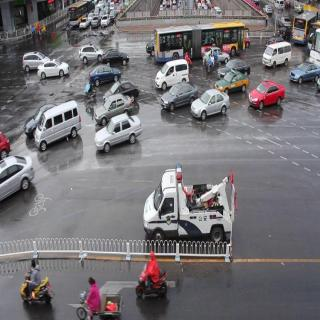BigCar: (154, 20, 250, 62), (291, 10, 313, 49), (64, 0, 91, 30)
Car: (143, 166, 242, 255), (33, 101, 82, 154), (91, 115, 143, 153), (0, 155, 34, 201), (151, 59, 195, 92), (195, 86, 232, 125), (96, 89, 136, 125), (249, 82, 286, 115), (260, 36, 294, 70), (213, 70, 251, 100), (102, 77, 139, 107), (157, 83, 196, 111), (96, 39, 128, 71), (218, 53, 253, 81), (36, 55, 71, 80), (289, 58, 319, 86), (18, 44, 49, 70), (78, 39, 104, 67), (278, 10, 292, 33), (101, 12, 112, 31), (79, 14, 90, 32), (90, 14, 101, 29)
